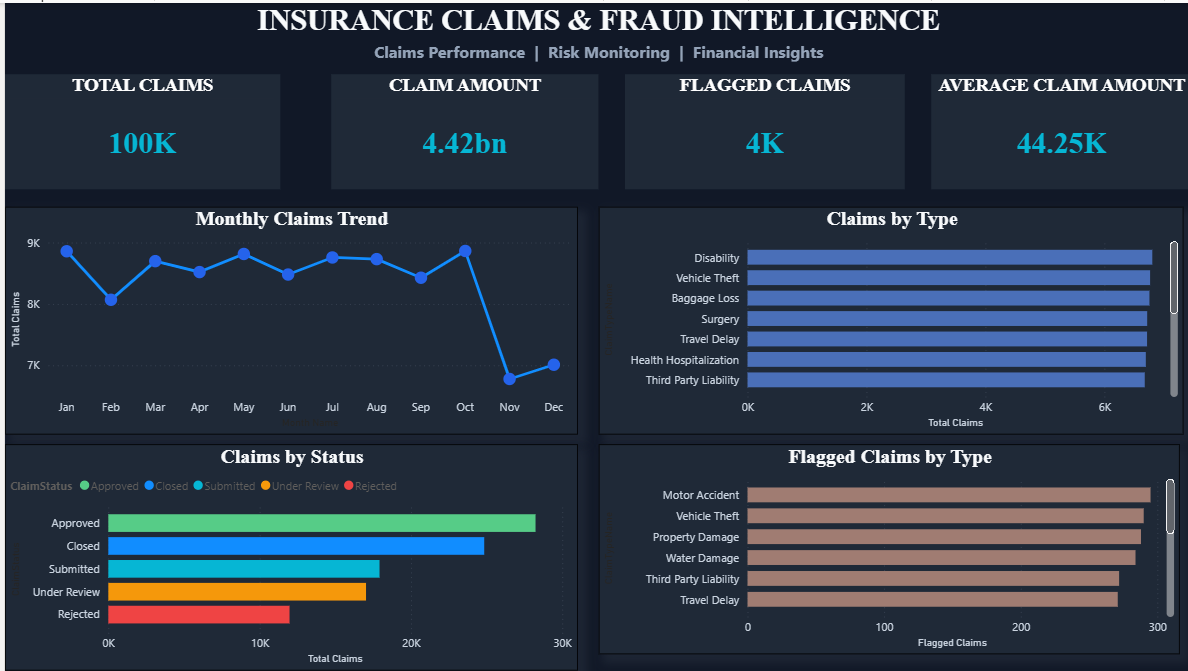

What the dashboard file says about the page in this screenshot:
{"tool":"powerbi","page":{"name":"Executive Overview","canvas":[1280,720],"ordinal":0},"visuals":[{"type":"lineChart","title":"Monthly Claims Trend","fields":{"Category":["DateTable.Month Name"],"Y":["Claims.Total Claims"]},"box":[0,219.7,617.2,245.3],"z":0},{"type":"textbox","title":"INSURANCE CLAIMS & FRAUD INTELLIGENCE","box":[0,0,1280.3,66],"z":1000},{"type":"cardVisual","title":" TOTAL CLAIMS","fields":{"Data":["Claims.Total Claims"]},"box":[0,76.8,296.5,124],"z":2000},{"type":"cardVisual","title":"AVERAGE CLAIM AMOUNT","fields":{"Data":["Claims.Average Claim Amount"]},"box":[998.6,76.8,281.7,124],"z":3000},{"type":"cardVisual","title":"FLAGGED CLAIMS","fields":{"Data":["Claims.Flagged Claims"]},"box":[668.4,76.8,301.9,124],"z":4000},{"type":"cardVisual","title":"CLAIM AMOUNT","fields":{"Data":["Claims.Total Claim Amount"]},"box":[351.7,76.8,288.4,124],"z":5000},{"type":"clusteredBarChart","title":"Claims by Type","fields":{"Category":["Claim_Types.ClaimTypeName"],"Y":["Claims.Total Claims"]},"box":[640.1,219.7,630.7,245.3],"z":6000},{"type":"barChart","title":"Claims by Status","fields":{"Category":["Claims.ClaimStatus"],"Y":["Claims.Total Claims"],"Series":["Claims.ClaimStatus"]},"box":[0,475.7,617.2,243.9],"z":7000},{"type":"clusteredBarChart","title":"Flagged Claims by Type","fields":{"Category":["Claim_Types.ClaimTypeName"],"Y":["Claims.Flagged Claims"]},"box":[640.1,475.7,626.7,226.4],"z":8000}]}

Visuals, with their boxes in screenshot pixels (x1, y1, x2, y2), scaled from the page's 1280x720 canvas onto the 1188x671 screenshot:
"Monthly Claims Trend" lineChart: detection(0, 205, 573, 433)
"INSURANCE CLAIMS & FRAUD INTELLIGENCE" textbox: detection(0, 0, 1187, 62)
" TOTAL CLAIMS" cardVisual: detection(0, 72, 275, 187)
"AVERAGE CLAIM AMOUNT" cardVisual: detection(927, 72, 1187, 187)
"FLAGGED CLAIMS" cardVisual: detection(620, 72, 901, 187)
"CLAIM AMOUNT" cardVisual: detection(326, 72, 594, 187)
"Claims by Type" clusteredBarChart: detection(594, 205, 1179, 433)
"Claims by Status" barChart: detection(0, 443, 573, 670)
"Flagged Claims by Type" clusteredBarChart: detection(594, 443, 1176, 654)
